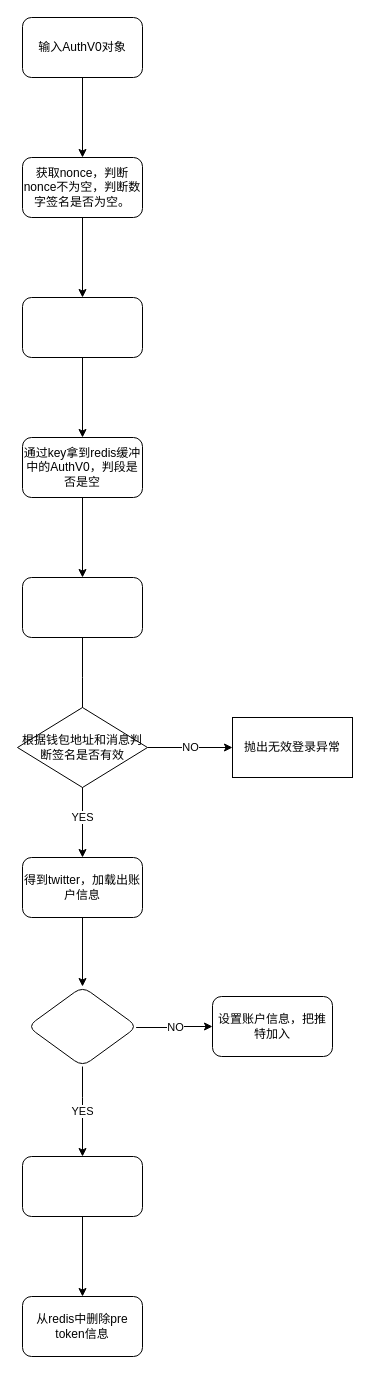
Image size: 370x1374. Some labels were removed from this diagram. The shapes that lost their labels are listed below. From the top down, each one's centre as x and y in pixels, then its label:
point (82, 327): 由nonce拿到Key
point (82, 607): 拿到账户account，判断是否是空
point (82, 1026): twitter是否为空
point (82, 1186): 把LoginV0加入account和jwtToken
